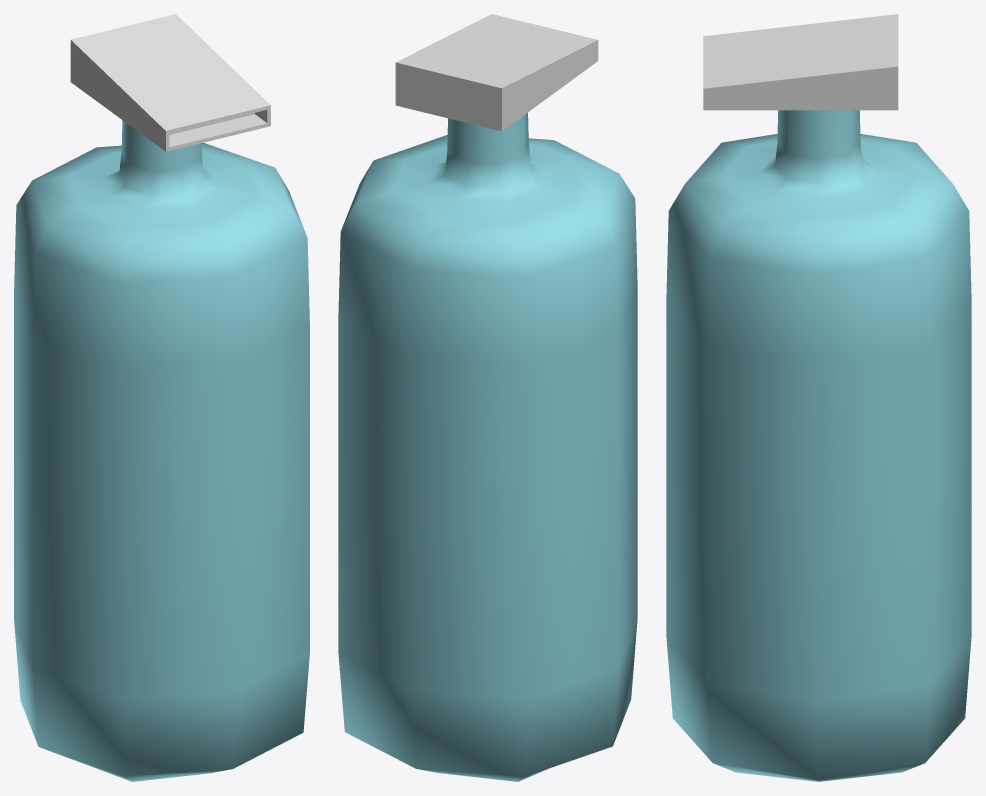
Rendered from Dispenser 01.fbx.
3 renders of one model, left to right at view 1: azimuth 30°, elevation 25°; view 2: azimuth 150°, elevation 25°; view 3: azimuth 270°, elevation 25°, orthographic. The views are drawn at different scales.
Parts seen in each view (by area): view 1: Bottle 1.001; view 2: Bottle 1.001; view 3: Bottle 1.001.
Part boxes in pixels (box(x1,y1,x2,y2)): Bottle 1.001: box(14, 14, 309, 781); Bottle 1.001: box(338, 14, 637, 781); Bottle 1.001: box(666, 14, 971, 781).
Size of the model in its own units: 17.9 by 45.48 by 17.9.
